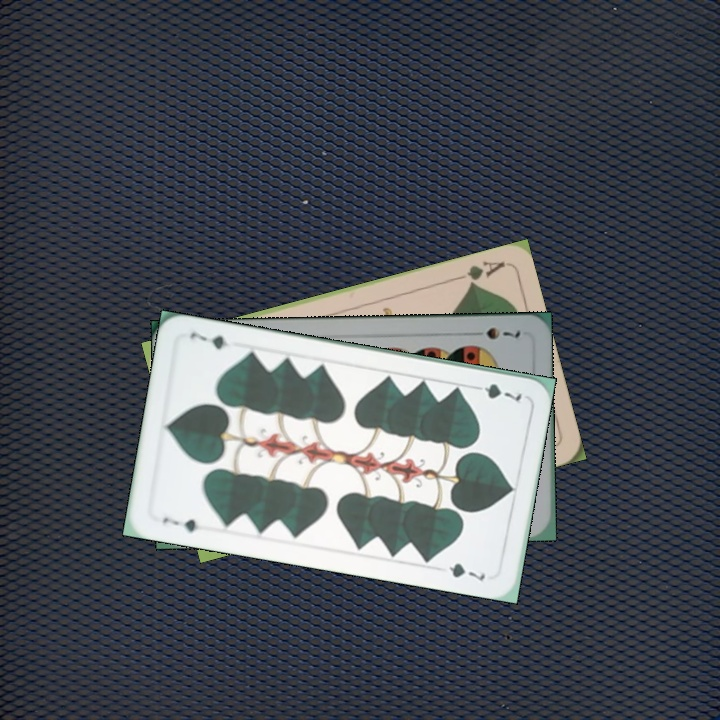G7: (467, 379, 525, 404), (158, 513, 201, 535)
GA: (450, 257, 508, 290)
S7: (466, 323, 523, 342)
